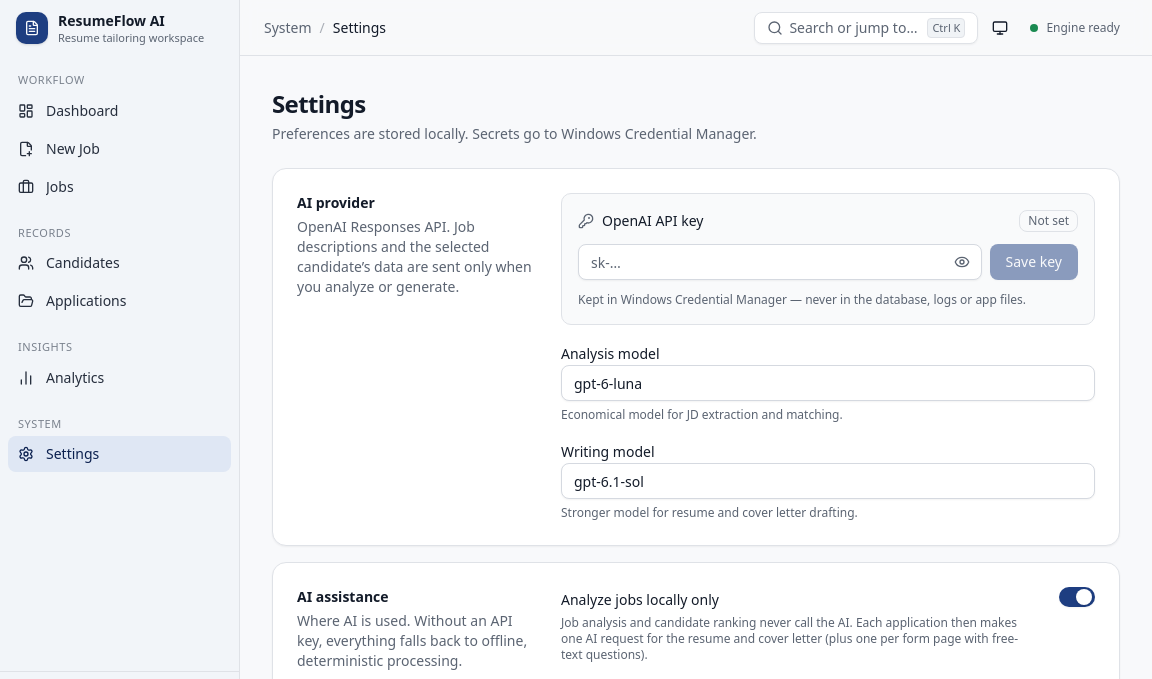
Test: settings page › stores the API key through the secrets endpoint, never via settings
In the password field named "OpenAI API key": [780, 262] box [578,244,982,280], type "sk-test-1234567890"
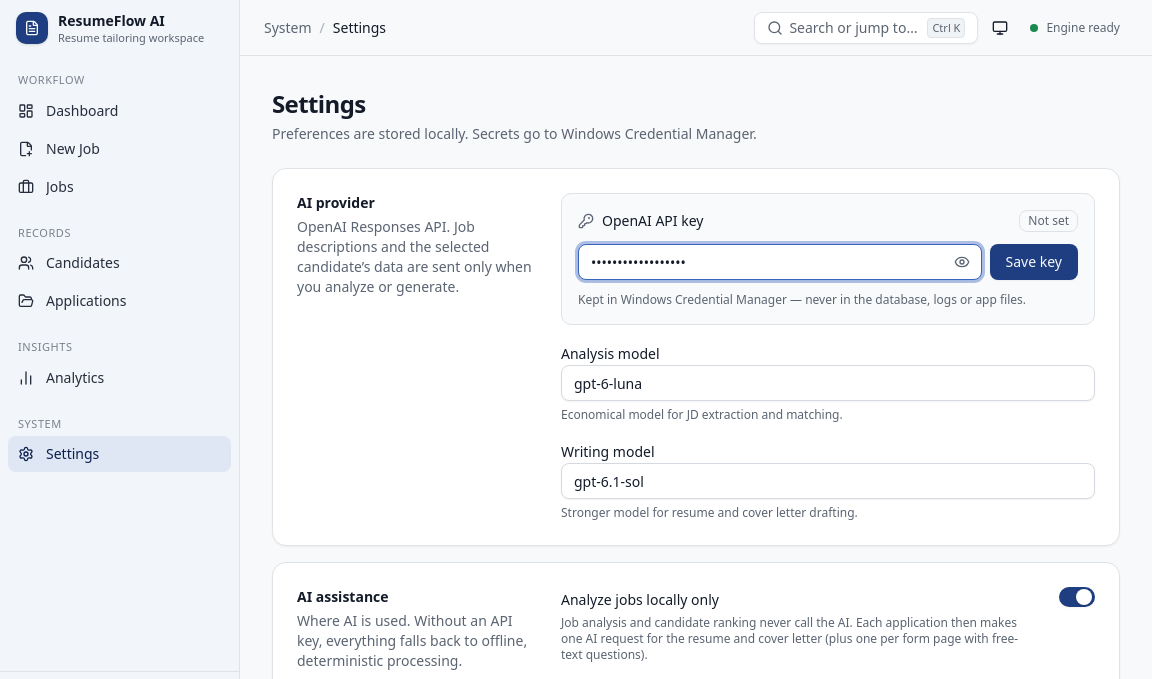
Click the button "Save key": [1034, 262] box [990,244,1078,280]
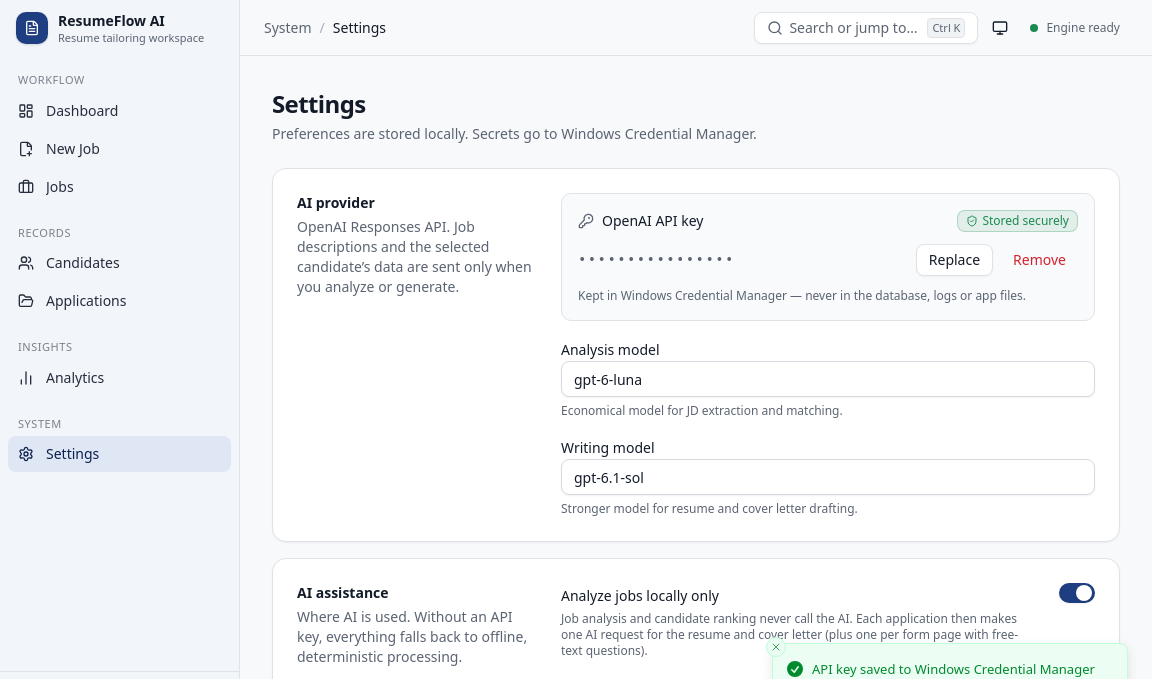
Now the text "Stored securely" is shown, box [957,210,1078,232]
